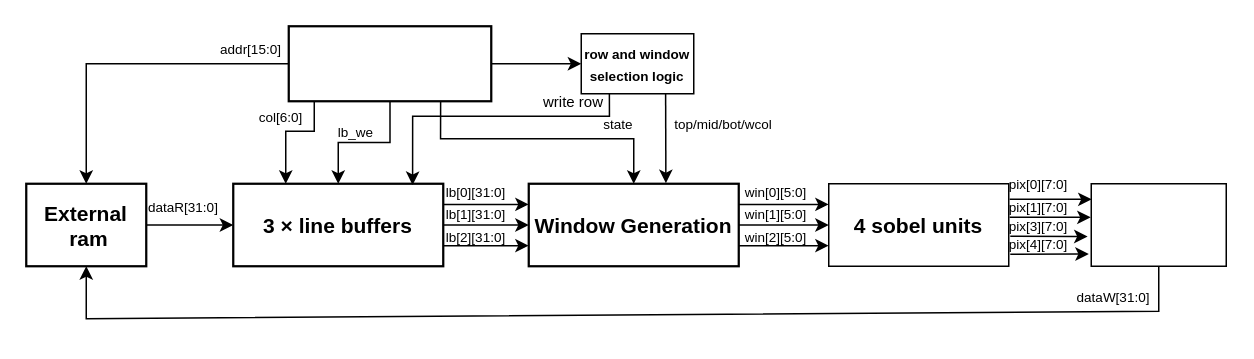
The diagram is 1254 pixels wide and 359 high, and some of its shapes have lost their labels. The centre of each missing label's shape, as x and y in pixels:
FSM controller: point (389, 63)
output packing: point (1158, 224)
